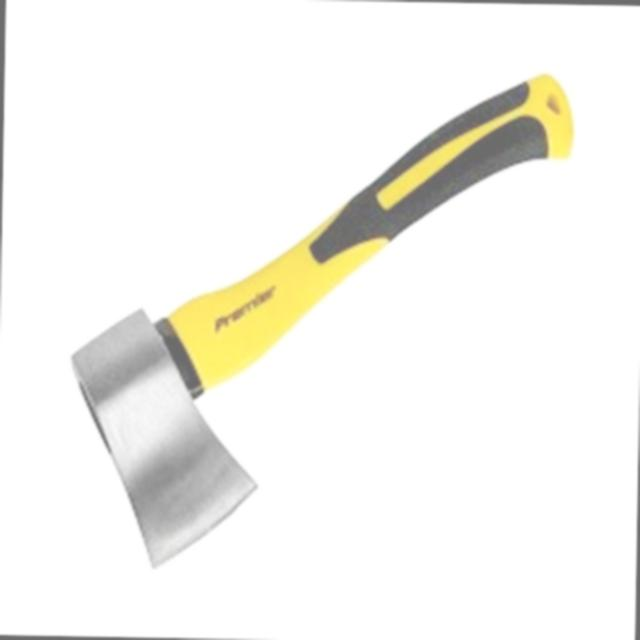ax: (59, 50, 586, 586)
